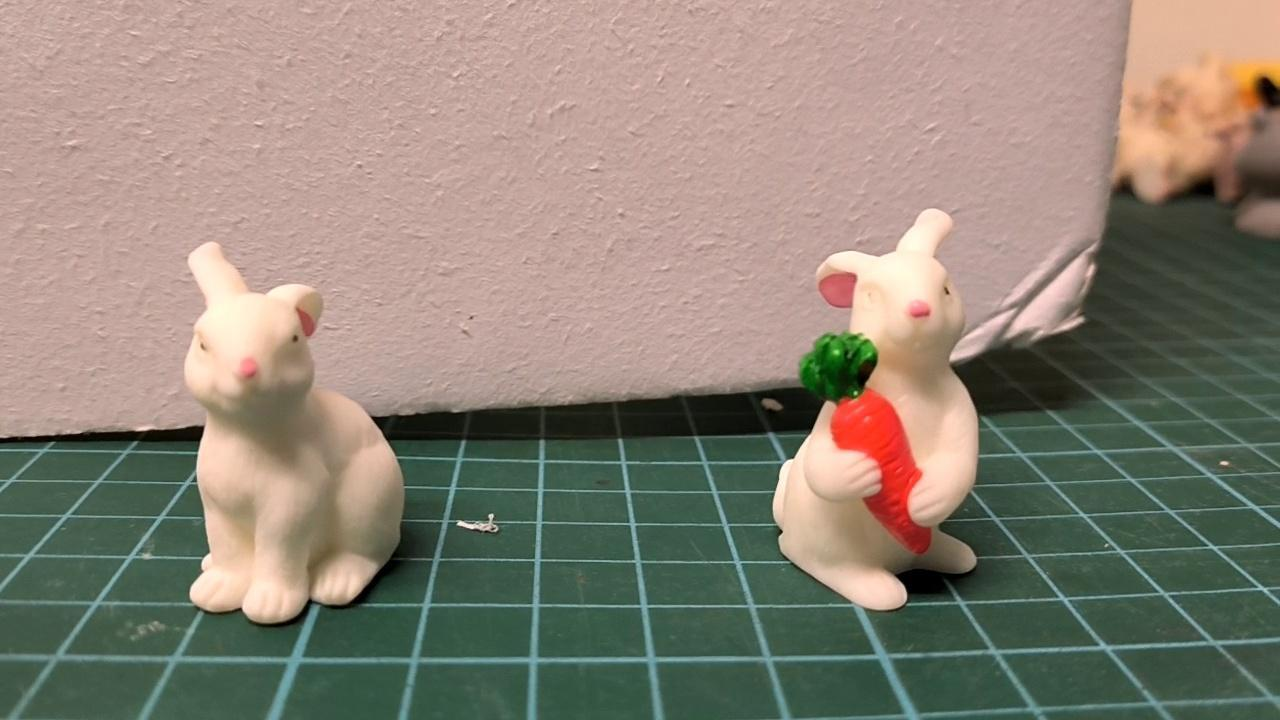pet: (773, 208, 981, 612), (186, 239, 403, 625)
